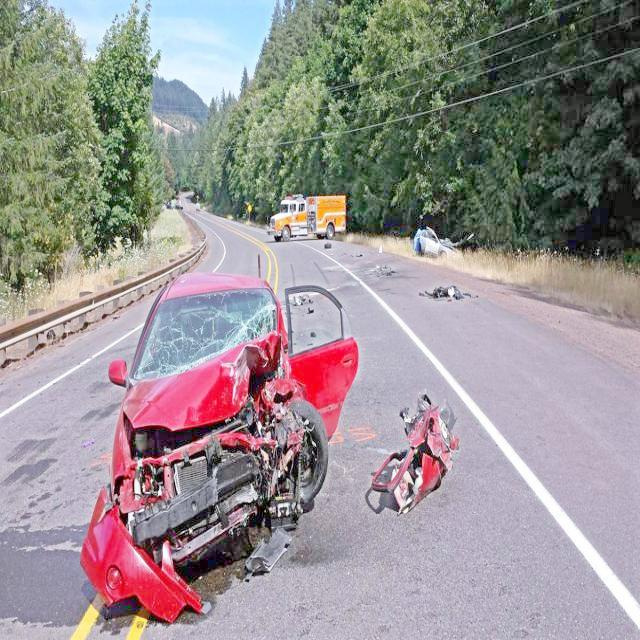Car: (95, 270, 361, 621), (412, 222, 462, 264)
Minor Accident: (78, 221, 472, 640)
